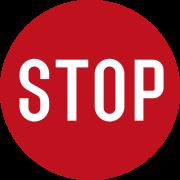Stop: (8, 11, 174, 167)
